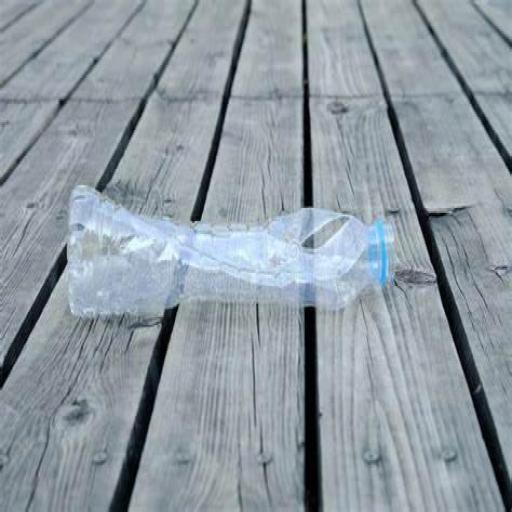plastic bottle: (67, 184, 396, 319)
